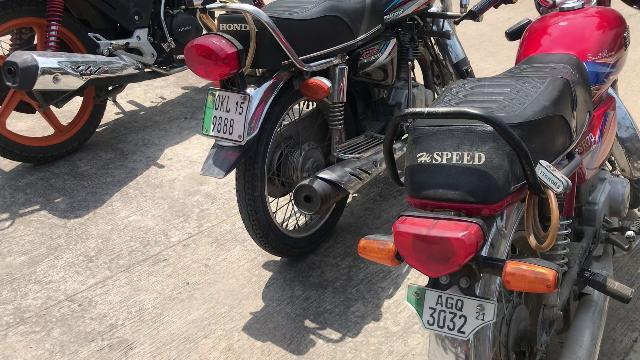plate: (406, 279, 500, 341)
